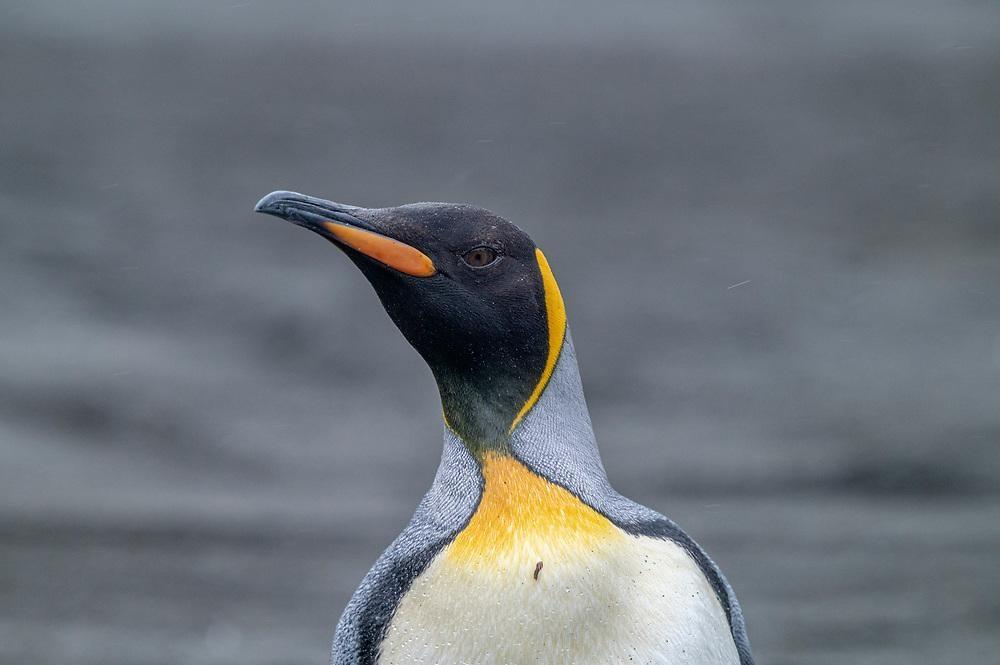Penguin: (256, 191, 752, 663)
